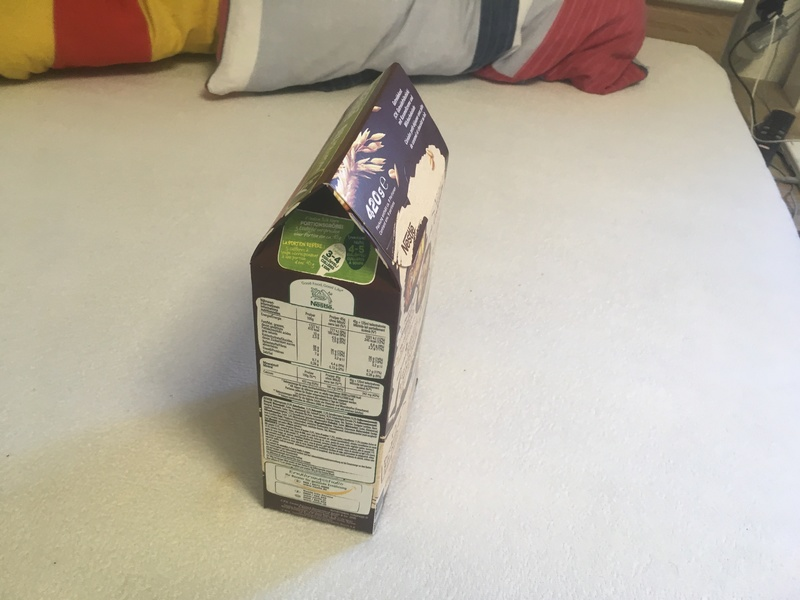cereals: (251, 63, 451, 536)
